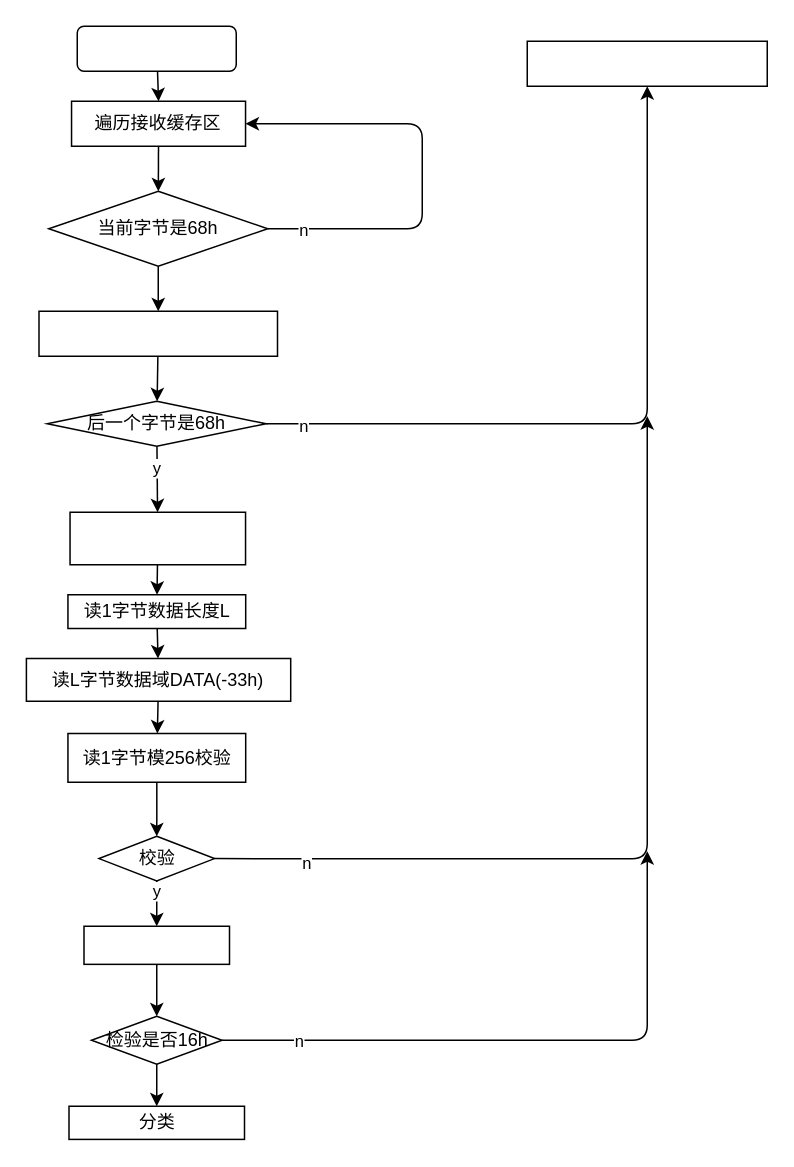
The diagram is 794 pixels wide and 1167 high, and some of its shapes have lost their labels. The centre of each missing label's shape, as x and y in pixels:
后6个字节是通信地址: [158,333]
清空缓存区，接收失败: [646,63]
读1字节16h: [156,944]
读1字节控制码C: [157,538]
读报文: [156,48]
